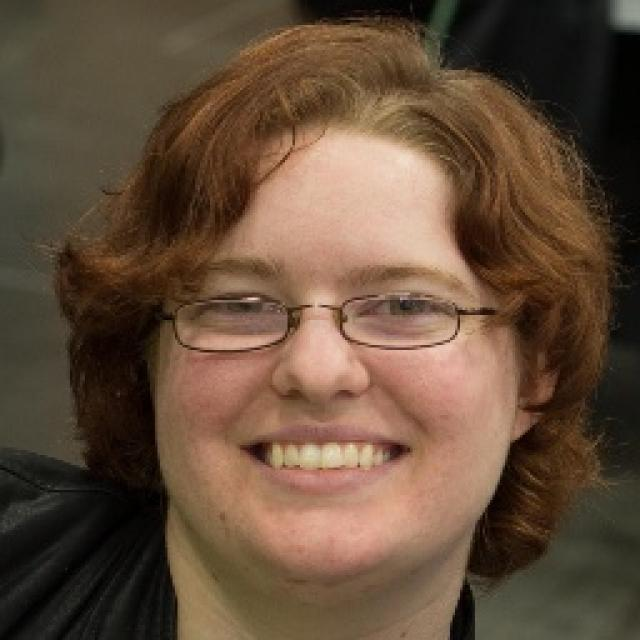earlobe: (508, 388, 548, 441)
eye: (362, 296, 449, 323), (205, 290, 280, 318)
nose: (272, 387, 366, 420)
wholeear: (508, 314, 566, 440)
